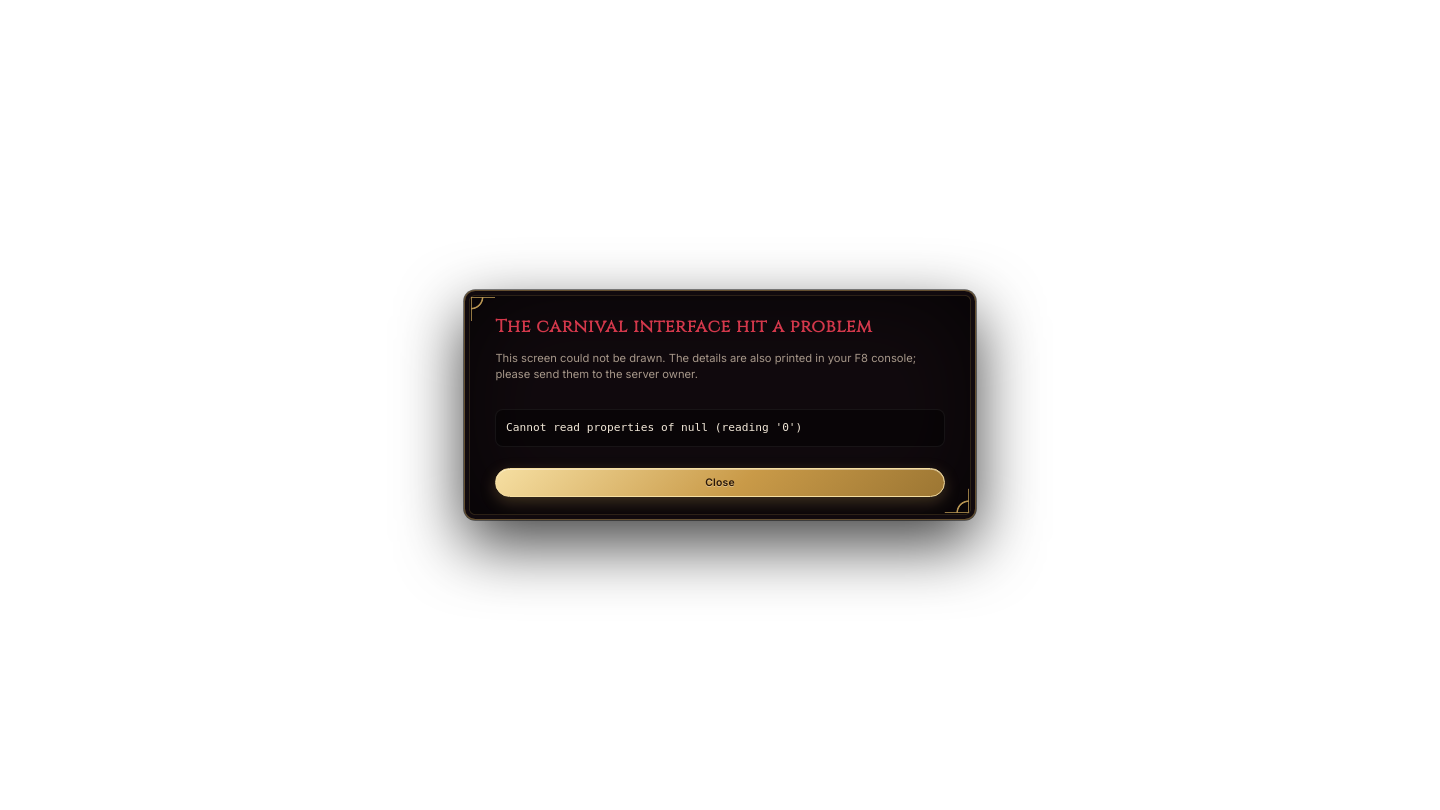
Scenario: error safety net › a screen that fails to draw shows an error card with a way out instead of a blank screen
Expected: the heading "The carnival interface hit a problem" is shown, x1=495 y1=315 x2=872 y2=339
Step 1. Click the button "Close" → (720, 482), box x1=495 y1=468 x2=945 y2=497
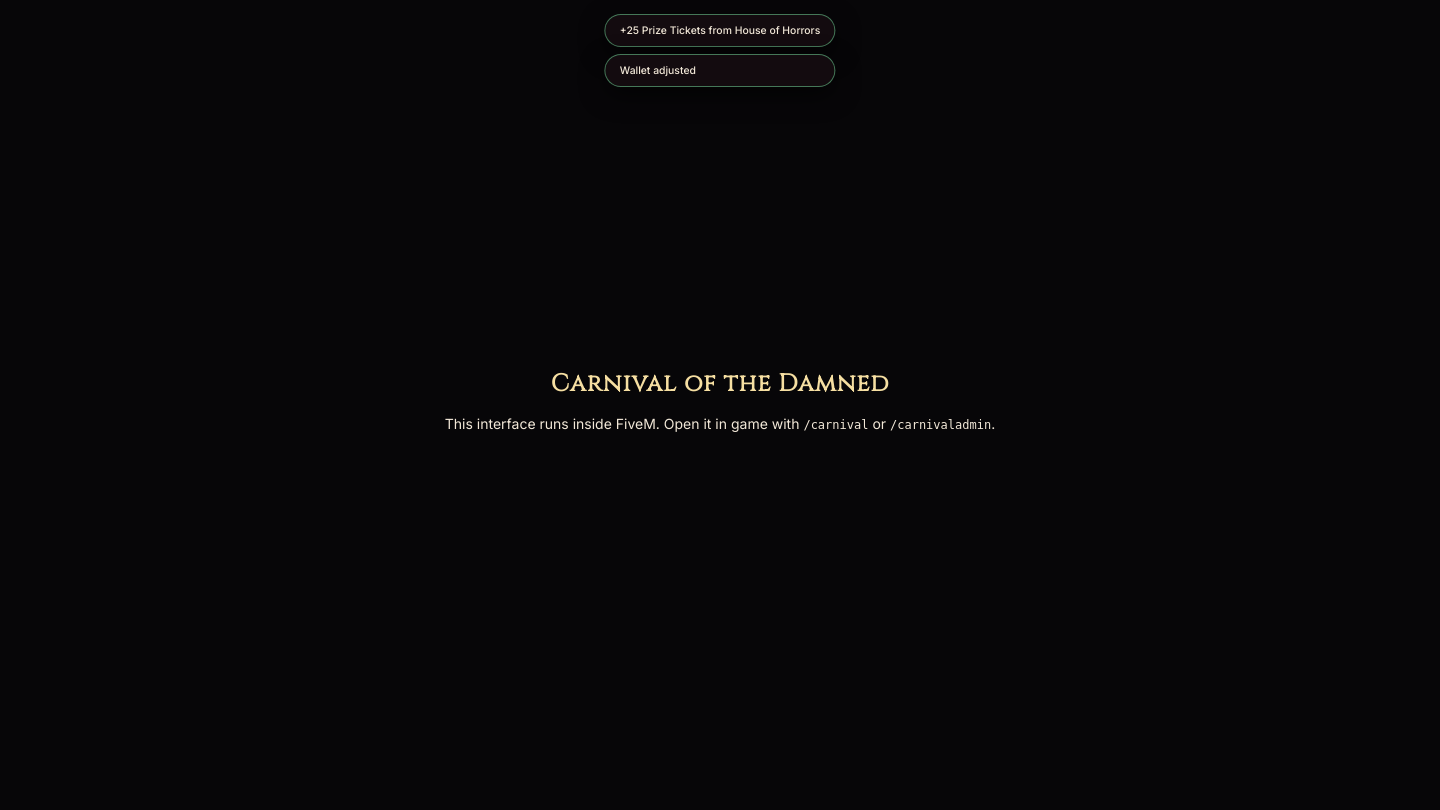
Now the heading "The carnival interface hit a problem" is gone
